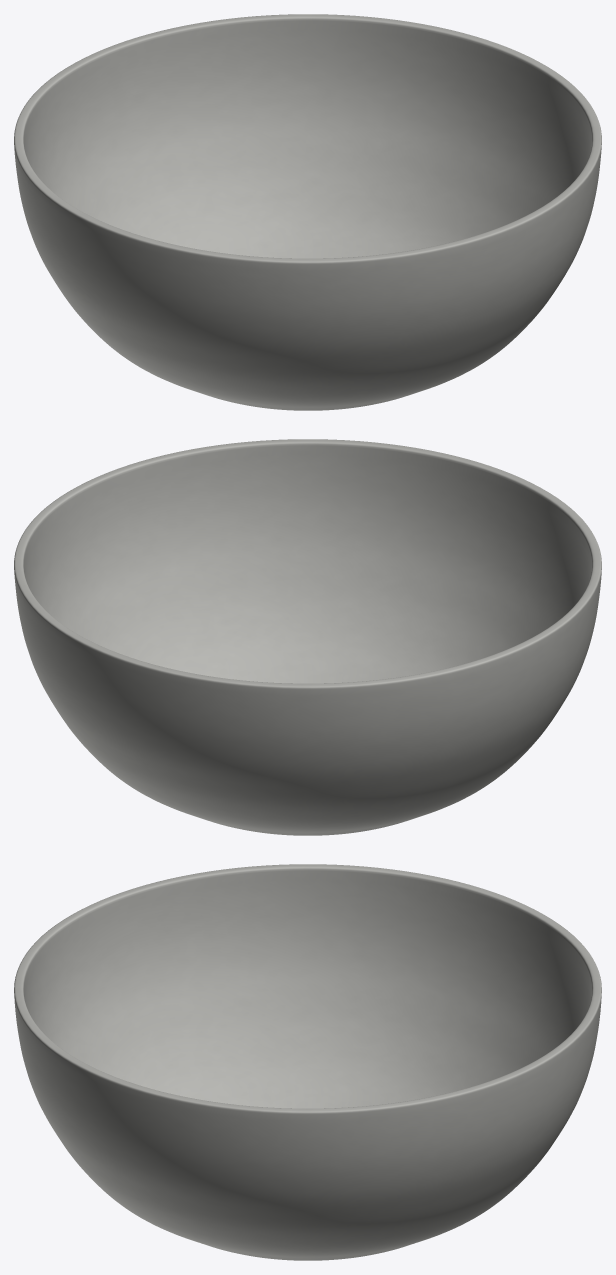
The picture shows the model from 3 angles, top to bottom: view 1: azimuth 30°, elevation 25°; view 2: azimuth 150°, elevation 25°; view 3: azimuth 270°, elevation 25°; orthographic projection.
Parts seen in each view (by area): view 1: world; view 2: world; view 3: world.
Boxes of the visible parts, x1,y1,x2,y2 form: world: (14,14,601,410); world: (14,439,601,835); world: (14,864,601,1260).
Size of the model in its own units: 0.18 by 0.072 by 0.18.
Materials: 1 (1 with a texture image).
